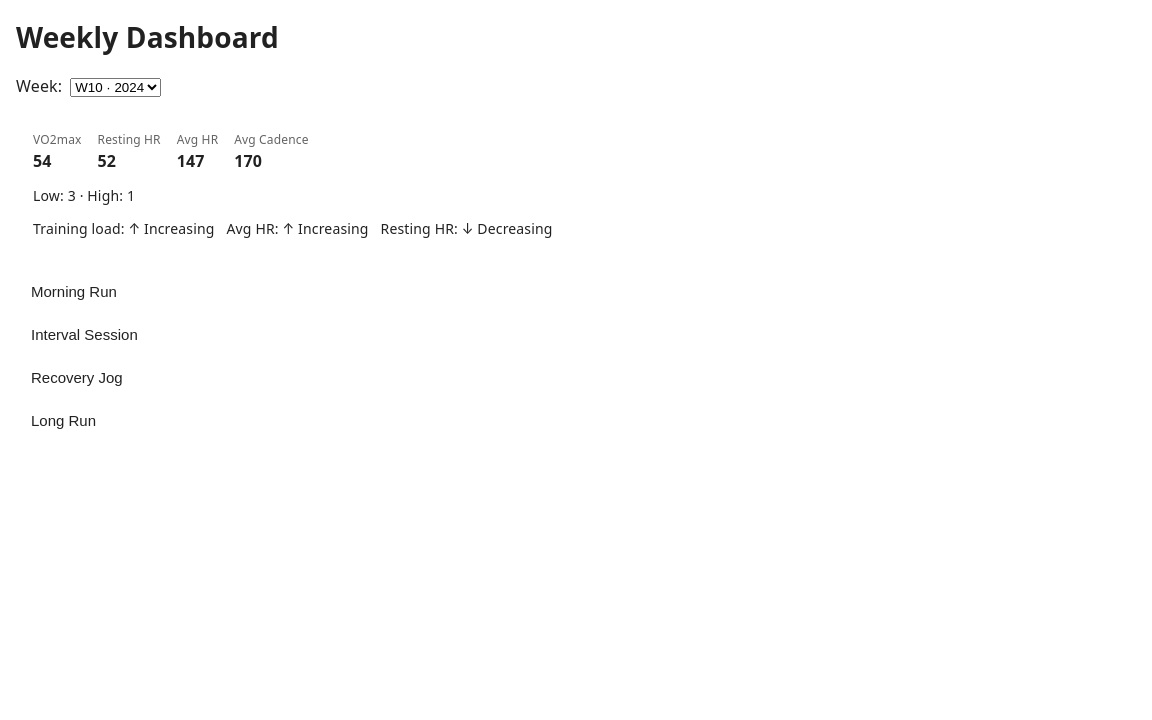
Test: WeeklyDashboard › Scenario: Activity records expose cadence and average heart rate fields › Interval Session shows avgHr=168 and cadence=180
Select "W10 · 2024" in the dropdown with test id "week-selector" at x=116, y=88, box [70,78,161,97]
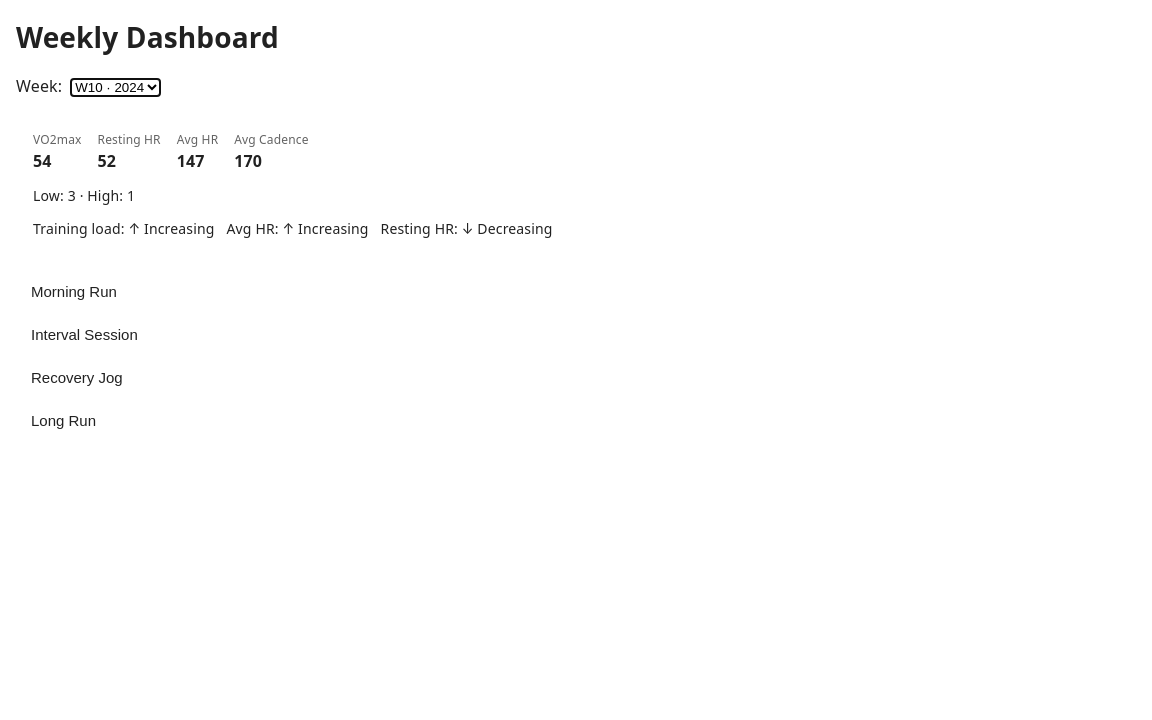
Click the button "Interval Session" at x=84, y=334, box [16,315,1136,354]
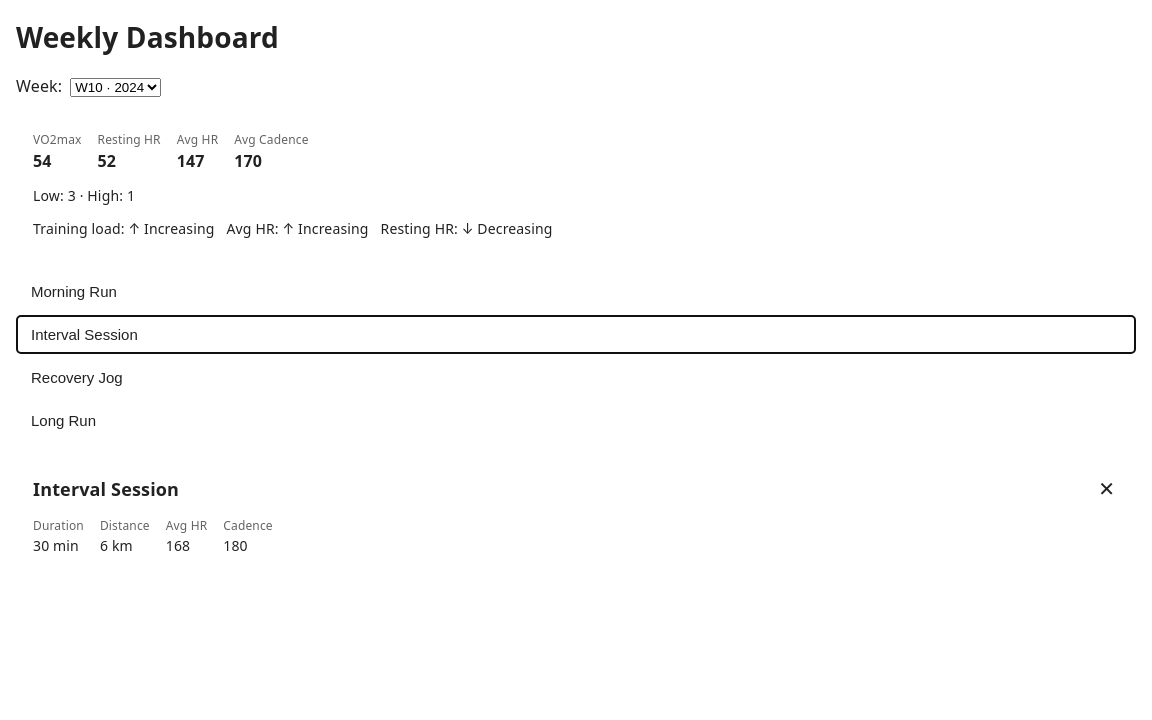
Result: the element with test id "activity-detail" is shown at [16,456,1136,573]
Result: the text with test id "activity-avg-hr" reads "168" at [166,536,190,555]
Result: the text with test id "activity-cadence" reads "180" at [223,536,248,555]
